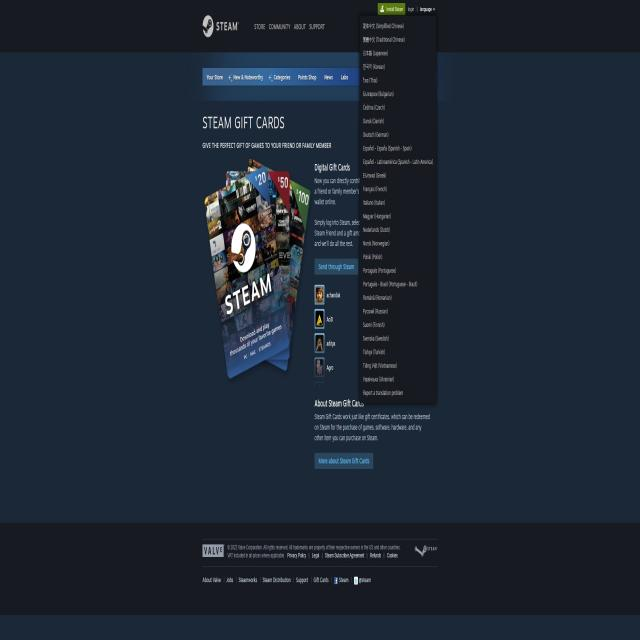tab-bar: (201, 67, 351, 91)
